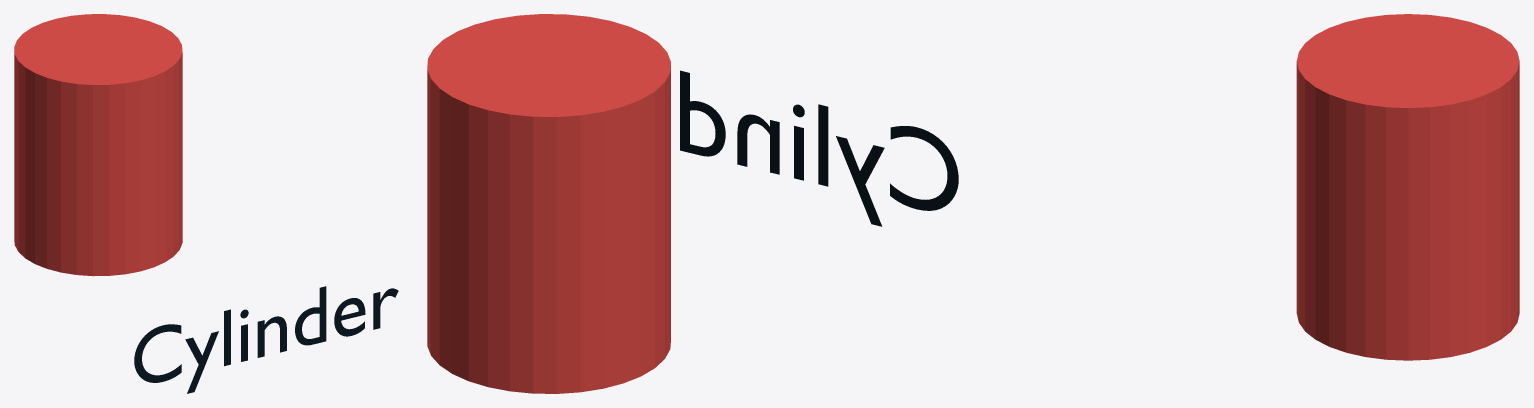
3 renders of one model, left to right at view 1: azimuth 30°, elevation 25°; view 2: azimuth 150°, elevation 25°; view 3: azimuth 270°, elevation 25°, orthographic. The views are drawn at different scales.
Parts seen in each view (by area): view 1: Cylinder, Text.001; view 2: Cylinder, Text.001; view 3: Cylinder.
Part boxes in pixels (x1,y1,x2,y2): Cylinder: (14, 14, 182, 276); Text.001: (134, 286, 398, 393); Cylinder: (427, 14, 670, 393); Text.001: (680, 70, 958, 226); Cylinder: (1296, 14, 1519, 360).
Size of the model in its own units: 0.3623 by 0.2756 by 0.4776.
